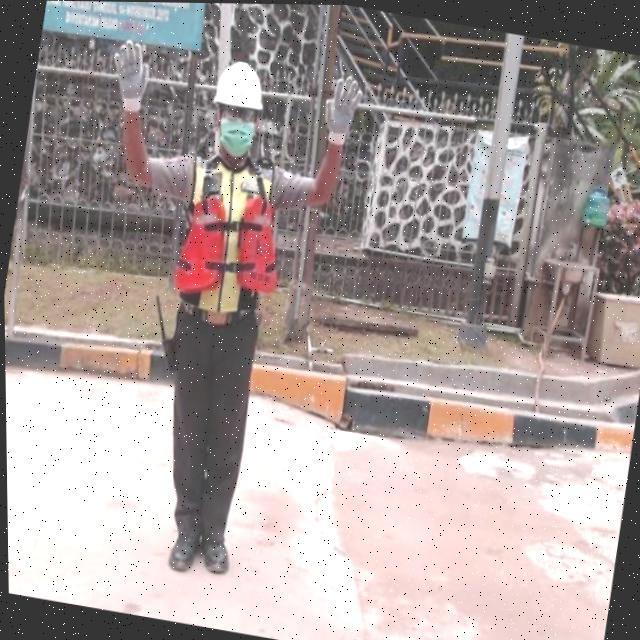goggles_on: (212, 98, 270, 128)
